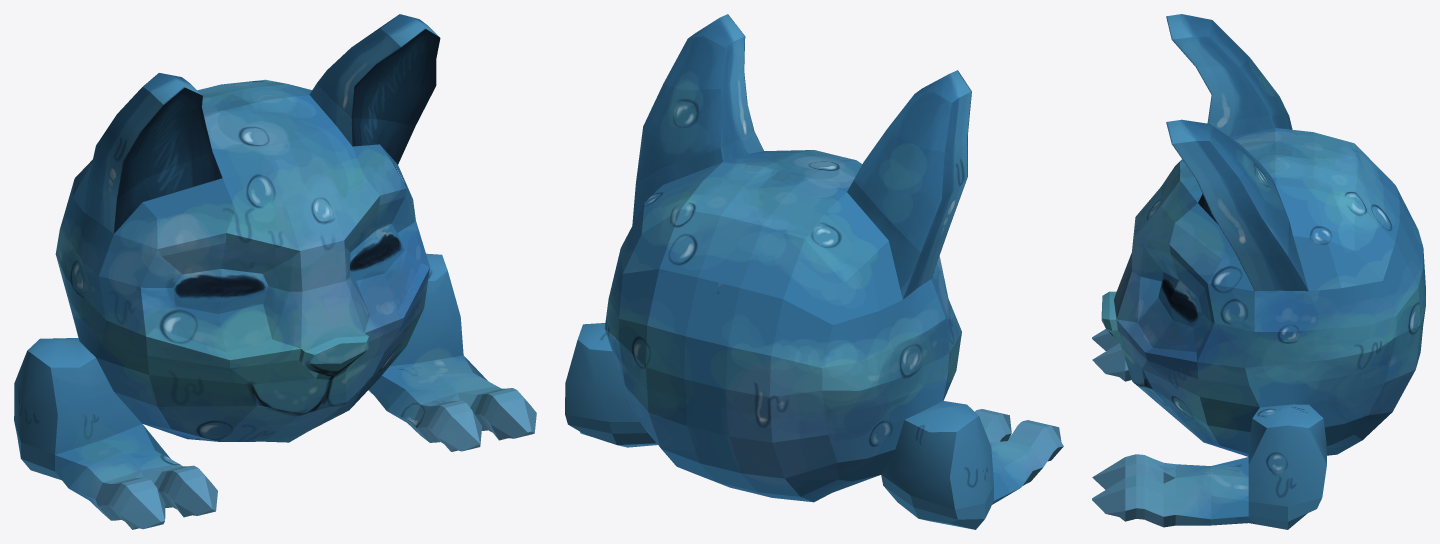
Rendered from SciFiMud.fbx.
3 views of the same model, side by side, from view 1: azimuth 30°, elevation 25°; view 2: azimuth 150°, elevation 25°; view 3: azimuth 270°, elevation 25° (orthographic). The views are drawn at different scales.
Parts seen in each view (by area): view 1: Mud_Sci_Fi; view 2: Mud_Sci_Fi; view 3: Mud_Sci_Fi.
Boxes of the visible parts, x1,y1,x2,y2 form: Mud_Sci_Fi: (14,14,536,529); Mud_Sci_Fi: (565,14,1063,529); Mud_Sci_Fi: (1092,14,1425,529).
Bounding box in the file's own units: 115 × 106 × 85.34.
Materials: 1 (1 with a texture image).
